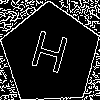H: (25, 29, 71, 83)
